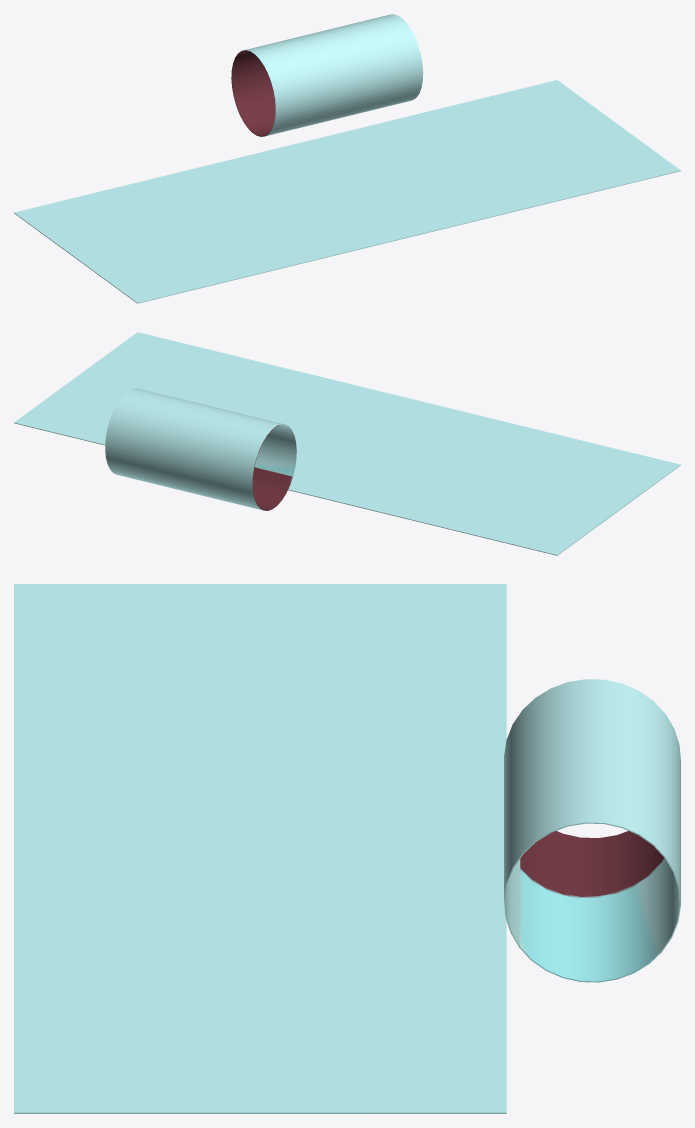
3 renders of one model, top to bottom at view 1: azimuth 30°, elevation 25°; view 2: azimuth 150°, elevation 25°; view 3: azimuth 270°, elevation 25°, orthographic. The views are drawn at different scales.
Parts seen in each view (by area): view 1: Blend, Blend1; view 2: Blend, Blend1; view 3: Blend, Blend1.
Part boxes in pixels (x1=…): Blend: x1=14, y1=80, x2=680, y2=303; Blend1: x1=231, y1=14, x2=423, y2=136; Blend: x1=14, y1=332, x2=680, y2=555; Blend1: x1=105, y1=388, x2=296, y2=510; Blend: x1=14, y1=584, x2=506, y2=1113; Blend1: x1=504, y1=679, x2=680, y2=982.
Size of what is drawn, in the model's own units: 794 by 112 by 423.
